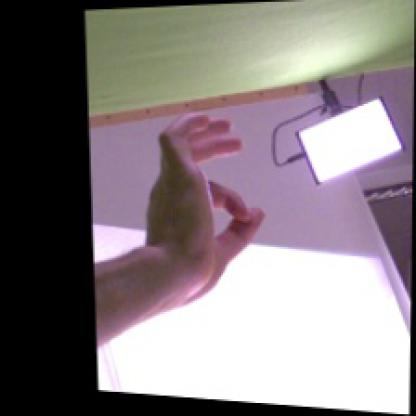Hand: (146, 113, 267, 308)
